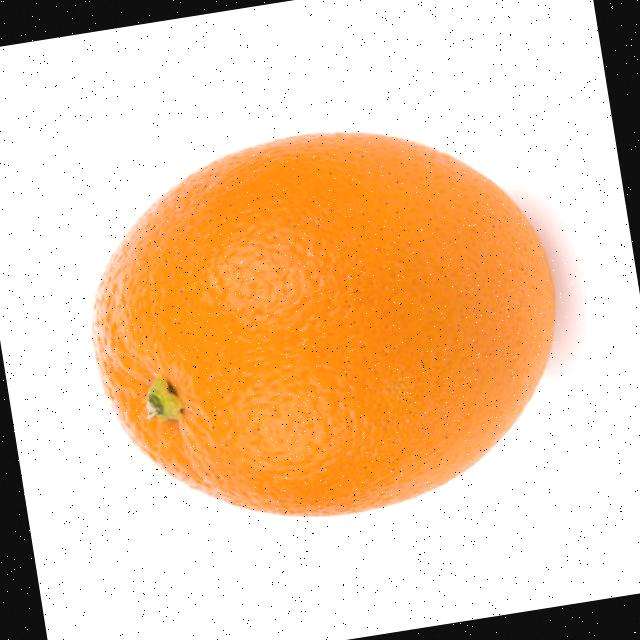orange: (61, 99, 588, 552)
